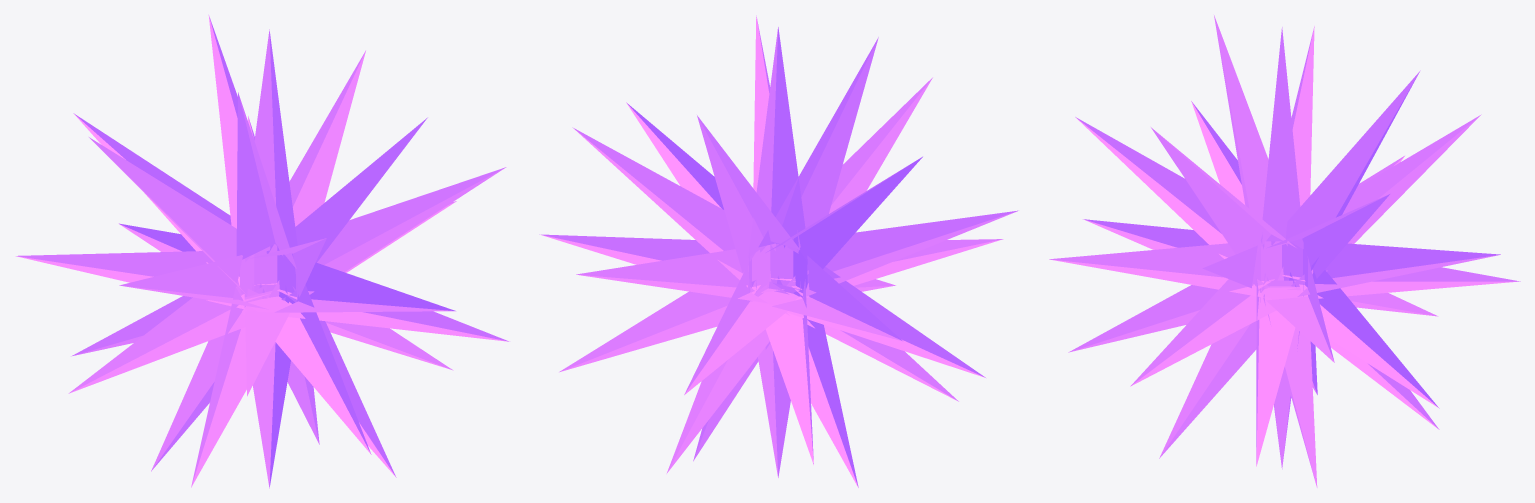
The model's file is burst_violet.glb.
3 views of the same model, side by side, from view 1: azimuth 30°, elevation 25°; view 2: azimuth 150°, elevation 25°; view 3: azimuth 270°, elevation 25° (orthographic). The views are drawn at different scales.
Parts seen in each view (by area): view 1: burst; view 2: burst; view 3: burst.
Part boxes in pixels (x1,y1,x2,y2): burst: [15, 15, 509, 488]; burst: [539, 15, 1018, 487]; burst: [1049, 15, 1520, 487].
Size of the model in its own units: 1.19 by 1.24 by 1.2.
